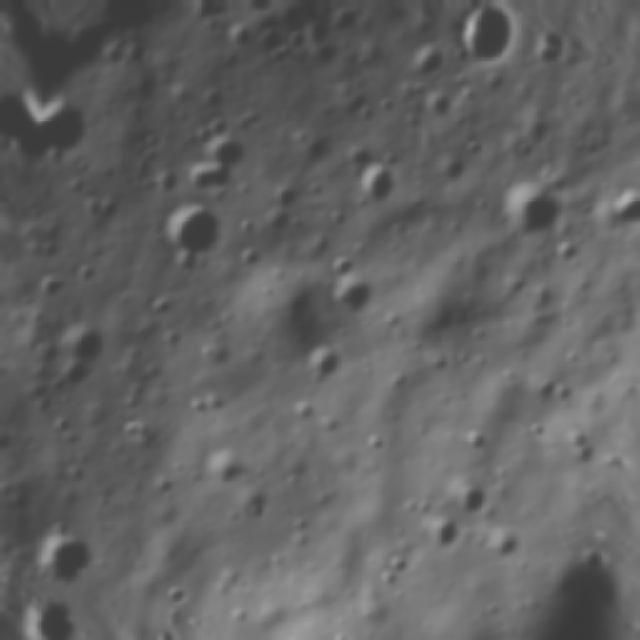crater: (179, 113, 266, 205), (148, 190, 242, 275), (26, 85, 100, 178), (490, 170, 568, 256), (28, 515, 110, 596), (194, 439, 257, 501), (52, 309, 116, 368), (393, 29, 449, 93), (452, 24, 520, 76), (80, 0, 168, 40), (352, 150, 408, 212), (327, 264, 387, 318), (296, 338, 352, 394), (412, 504, 468, 556), (449, 473, 496, 533), (601, 174, 640, 243), (246, 19, 292, 66), (269, 174, 308, 214), (234, 237, 274, 274), (162, 573, 196, 612), (233, 0, 278, 20), (0, 292, 9, 391)
